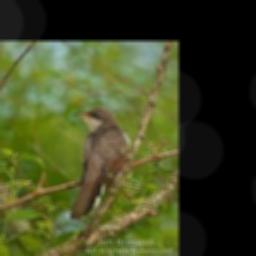Cuckoo: (69, 108, 131, 219)
